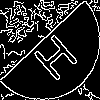H: (25, 25, 81, 84)
